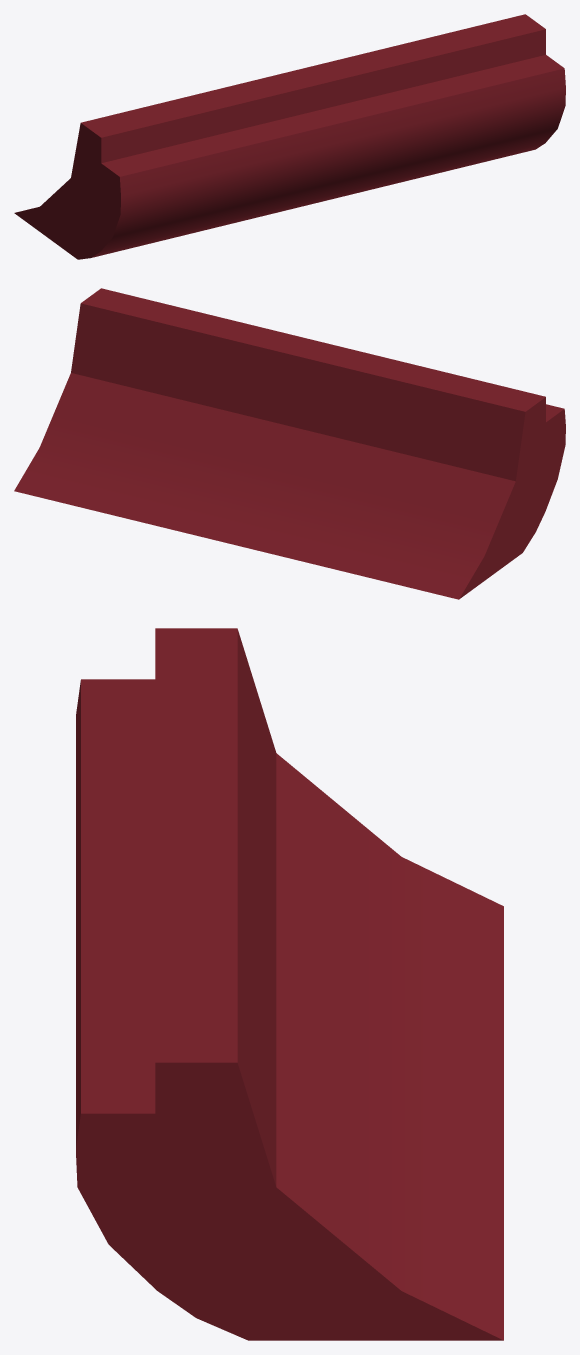
The model's file is BRoofPannelTrim_B.fbx.
3 renders of one model, top to bottom at view 1: azimuth 30°, elevation 25°; view 2: azimuth 150°, elevation 25°; view 3: azimuth 270°, elevation 25°, orthographic. The views are drawn at different scales.
Parts seen in each view (by area): view 1: BRoofPannelTrim_B; view 2: BRoofPannelTrim_B; view 3: BRoofPannelTrim_B.
Boxes of the visible parts, x1,y1,x2,y2 form: BRoofPannelTrim_B: (14,14,565,259); BRoofPannelTrim_B: (14,288,565,599); BRoofPannelTrim_B: (76,628,503,1340).
Size of the model in its own units: 400 by 119 by 167.
